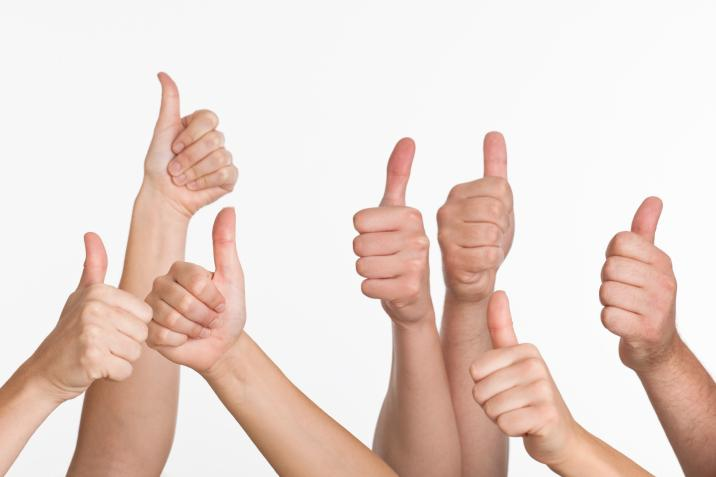thumbsup: (143, 204, 241, 351), (470, 290, 560, 438), (354, 137, 430, 301), (74, 232, 153, 379), (436, 131, 516, 275), (600, 195, 679, 338), (157, 71, 240, 194)
